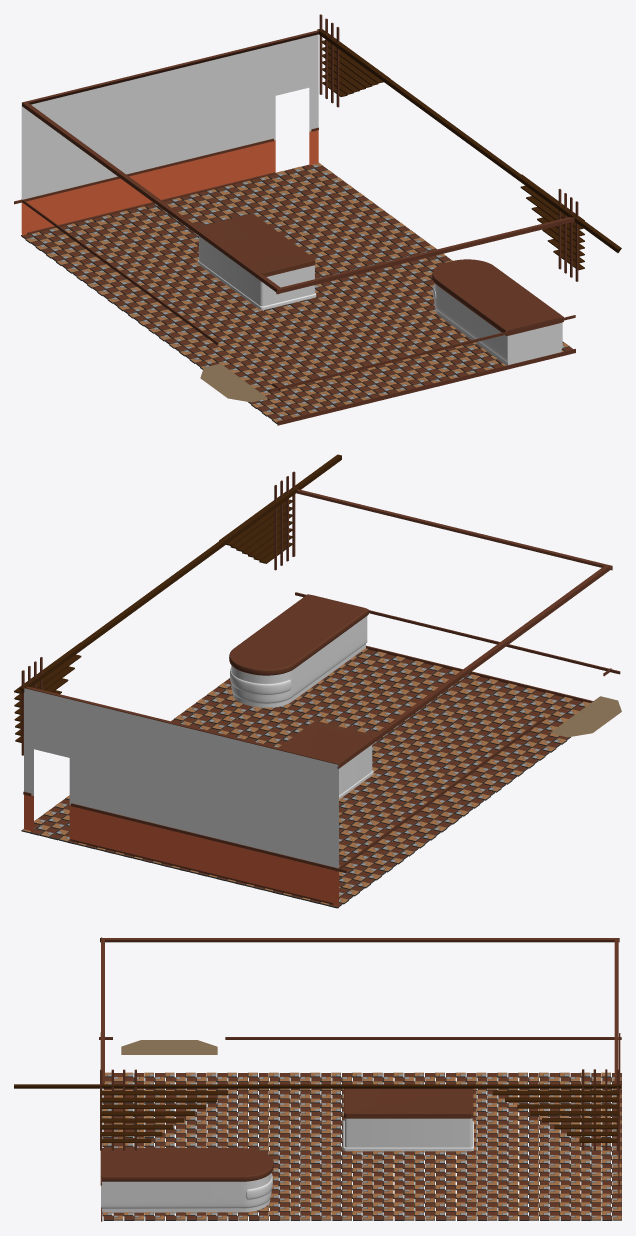
The model's file is Kitchen Walls.fbx.
3 renders of one model, top to bottom at view 1: azimuth 30°, elevation 25°; view 2: azimuth 150°, elevation 25°; view 3: azimuth 270°, elevation 25°, orthographic. The views are drawn at different scales.
Visible parts, largest first — view 1: Floor.Kitchen.001, Wall.Kitchen.001, RoundedCornerTable.001, KitchenIsland.001, Trim.LivingRoom.003b, Cube.048, Cube.049, Cube.501, Cube.499, Cube.238, Cube.047, BayWindowBench.001 (+6 smaller); view 2: Wall.Kitchen.001, Floor.Kitchen.001, RoundedCornerTable.001, KitchenIsland.001, Trim.LivingRoom.003b, Cube.048, Cube.501, Cube.049, BayWindowBench.001, BaseBoard.009, Cube.502, Cube.047 (+5 smaller); view 3: Floor.Kitchen.001, RoundedCornerTable.001, KitchenIsland.001, Cube.501, Cube.499, Trim.LivingRoom.003b, Cube.048, BayWindowBench.001, BaseBoard.011, Cube.047, Cube.502, Cube.496 (+1 smaller).
Boxes of the visible parts, x1,y1,x2,y2 form: Floor.Kitchen.001: (21, 163, 572, 423); Wall.Kitchen.001: (21, 30, 318, 237); RoundedCornerTable.001: (432, 259, 563, 365); KitchenIsland.001: (197, 214, 316, 310); Trim.LivingRoom.003b: (317, 29, 621, 252); Cube.048: (22, 102, 281, 293); Cube.049: (276, 217, 574, 294); Cube.501: (520, 174, 584, 270); Cube.499: (322, 33, 390, 96); Cube.238: (277, 349, 575, 425); Cube.047: (23, 30, 318, 104); BayWindowBench.001: (200, 363, 267, 402); Wall.Kitchen.001: (24, 688, 338, 908); Floor.Kitchen.001: (21, 648, 590, 908); RoundedCornerTable.001: (229, 594, 368, 708); KitchenIsland.001: (279, 721, 373, 799); Trim.LivingRoom.003b: (19, 454, 341, 692); Cube.048: (337, 565, 610, 768); Cube.501: (219, 491, 292, 563); Cube.049: (296, 489, 612, 570); BayWindowBench.001: (550, 696, 621, 737); BaseBoard.009: (23, 791, 346, 872); Cube.502: (274, 471, 295, 570); Cube.047: (25, 686, 338, 764); Floor.Kitchen.001: (102, 1072, 621, 1220); RoundedCornerTable.001: (101, 1148, 273, 1213); KitchenIsland.001: (343, 1088, 473, 1152); Cube.501: (100, 1091, 227, 1142); Cube.499: (492, 1090, 619, 1142); Trim.LivingRoom.003b: (14, 1084, 621, 1088); Cube.048: (100, 938, 619, 942); BayWindowBench.001: (121, 1040, 217, 1054); BaseBoard.011: (99, 1037, 621, 1039); Cube.047: (614, 938, 618, 1084); Cube.502: (100, 1069, 136, 1150); Cube.496: (582, 1069, 618, 1150).
Size of the model in its own units: 910 by 389 by 1407.
